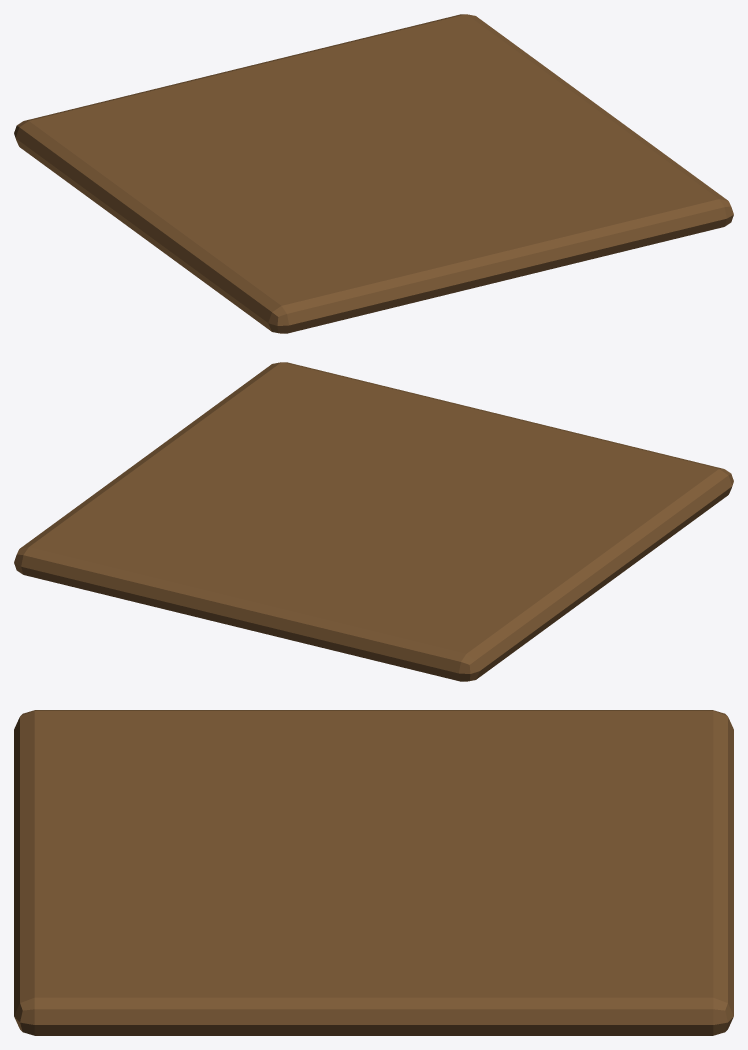
File: Wall13.fbx
3 views of the same model, one above another, from view 1: azimuth 30°, elevation 25°; view 2: azimuth 150°, elevation 25°; view 3: azimuth 270°, elevation 25° (orthographic). The views are drawn at different scales.
Parts seen in each view (by area): view 1: Cube; view 2: Cube; view 3: Cube.
Part boxes in pixels (<box>): Cube: <box>14,14,733,333</box>; Cube: <box>14,362,733,681</box>; Cube: <box>14,710,733,1035</box>.
Size of the model in its own units: 200 by 11.5 by 200.
